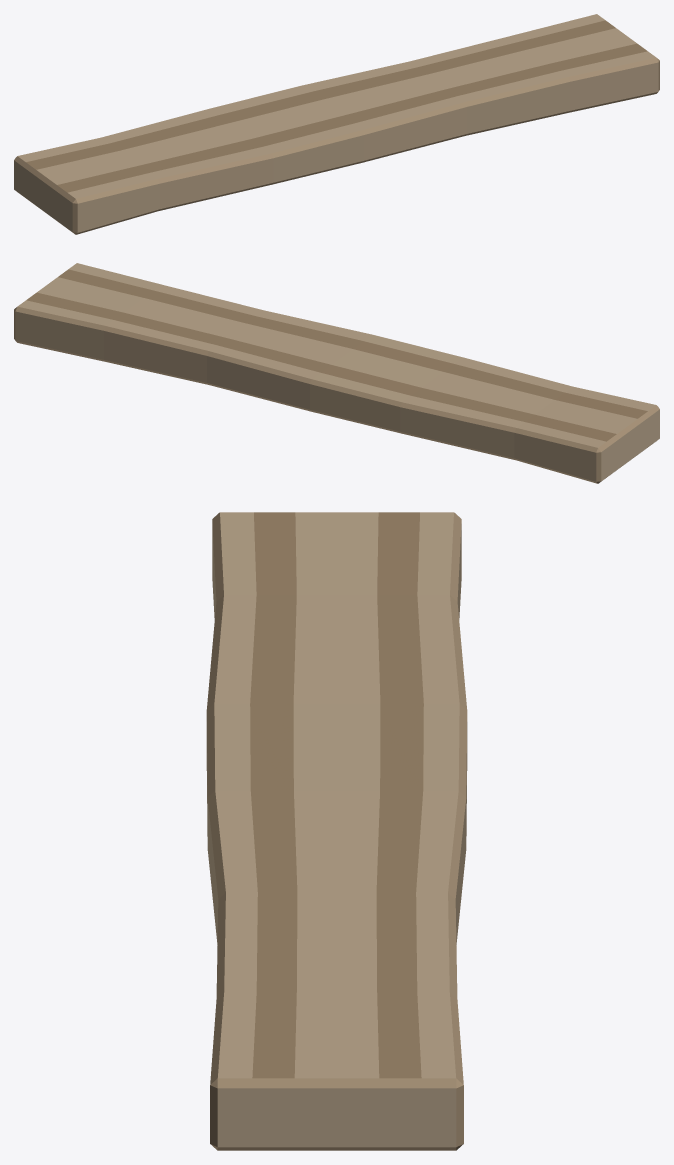
The model's file is resource.board.fbx.
The picture shows the model from 3 angles, top to bottom: view 1: azimuth 30°, elevation 25°; view 2: azimuth 150°, elevation 25°; view 3: azimuth 270°, elevation 25°; orthographic projection. The views are drawn at different scales.
Parts seen in each view (by area): view 1: resource.board; view 2: resource.board; view 3: resource.board.
Boxes of the visible parts, left/top/right/bottom form: resource.board: left=14, top=14, right=659, bottom=234; resource.board: left=14, top=263, right=659, bottom=483; resource.board: left=206, top=512, right=467, bottom=1150.
Bounding box in the file's own units: 97.44 × 5.87 × 18.73.
